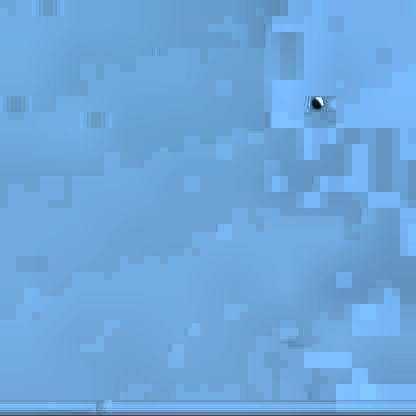golfball: (307, 94, 320, 107)
